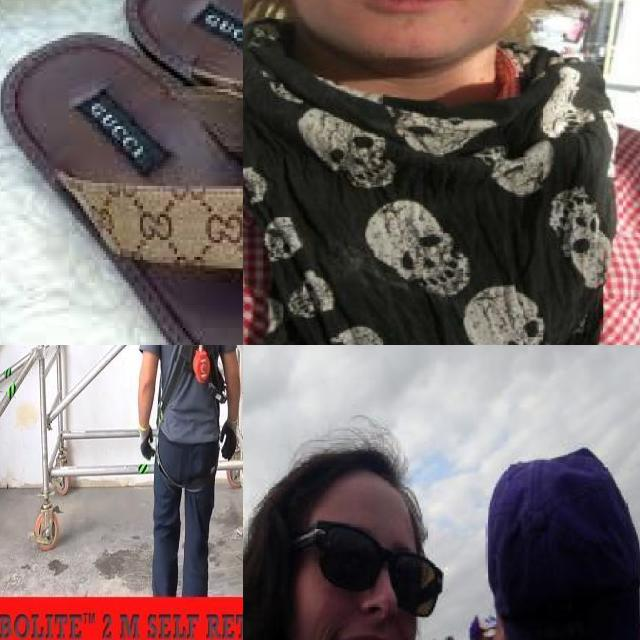Harness: (159, 345, 227, 424)
Sandals: (0, 0, 243, 345)
face_nomask: (307, 522, 429, 640)
glasses: (288, 533, 437, 614)
head_nohelmet: (276, 440, 415, 520)
person: (243, 0, 640, 345), (243, 446, 491, 640)
